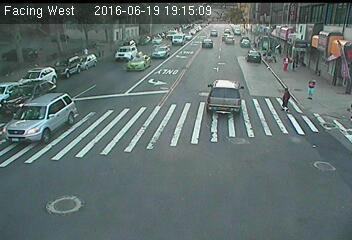neg: (204, 85, 234, 124), (108, 184, 138, 223), (70, 102, 95, 135), (115, 72, 139, 105), (211, 169, 235, 201), (304, 154, 328, 186), (153, 173, 176, 204), (316, 23, 339, 54), (50, 135, 72, 165), (53, 178, 74, 206), (163, 28, 184, 56), (294, 29, 314, 56), (36, 39, 56, 66), (219, 26, 239, 52), (256, 34, 273, 57), (101, 28, 118, 50), (175, 93, 191, 114), (111, 135, 125, 155), (76, 65, 88, 81)
pos: (276, 82, 300, 114), (303, 74, 322, 100)
